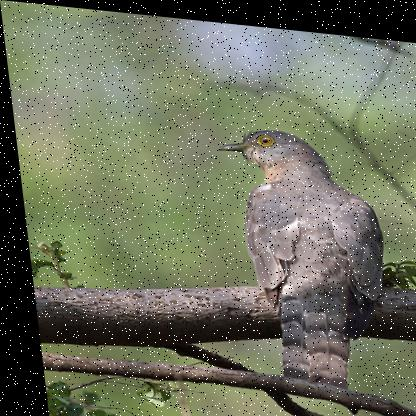Burung: (211, 119, 391, 387)
